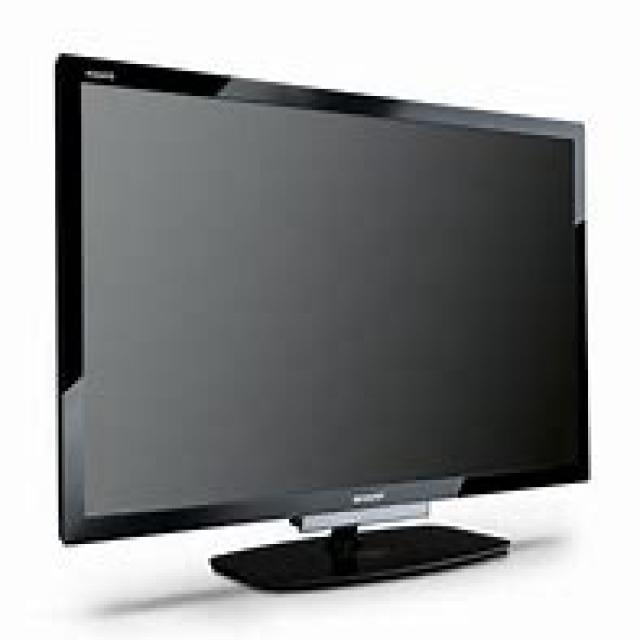tv: (52, 50, 588, 590)
